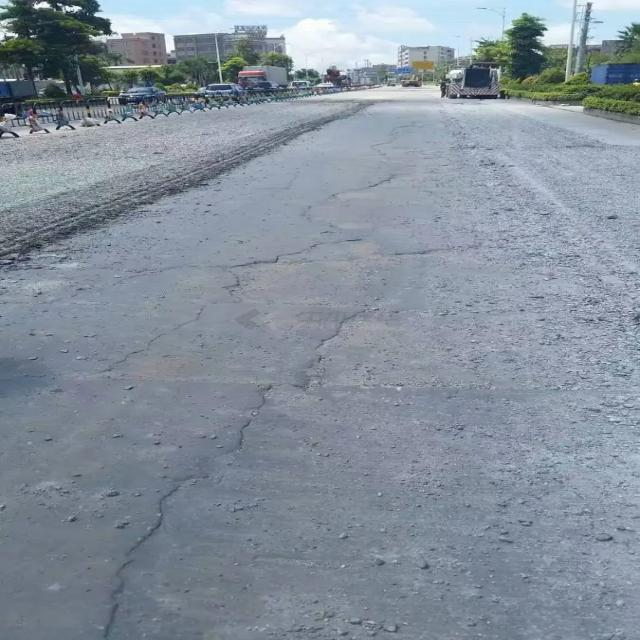pothole: (297, 122, 486, 274)
